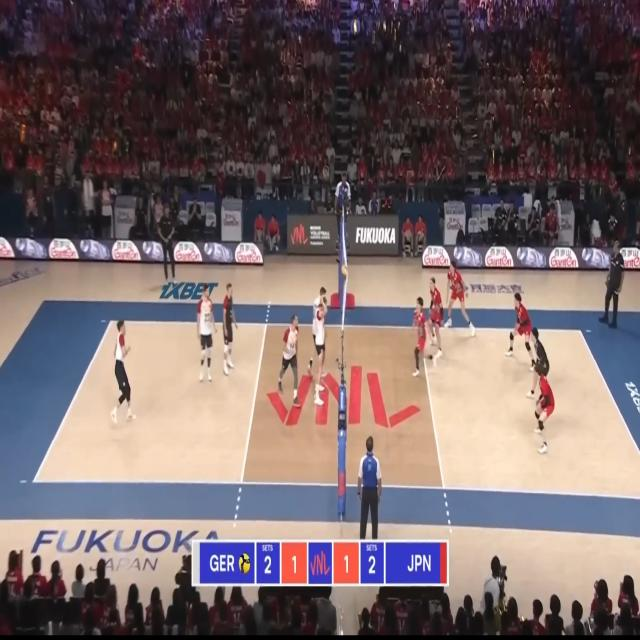ball: (342, 264, 348, 275)
